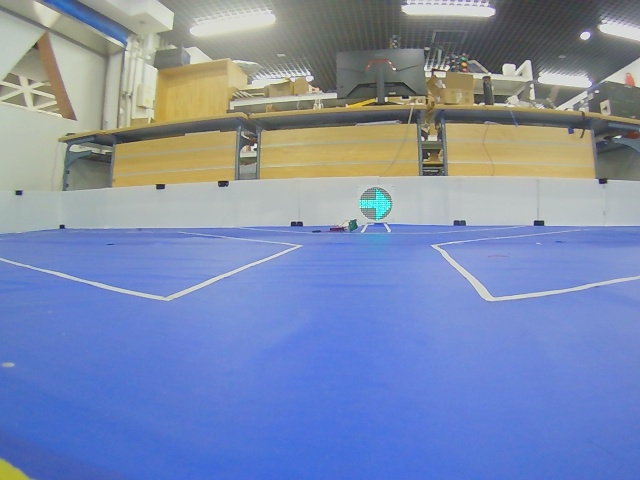right_green: (359, 187, 393, 221)
